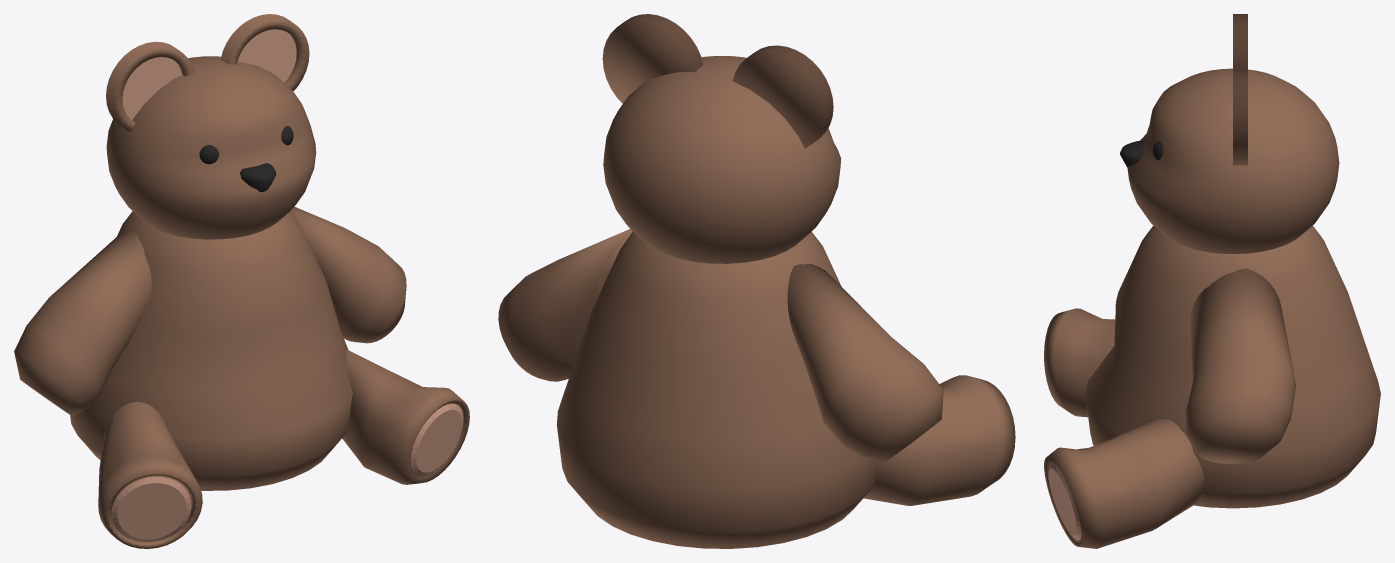
File: bear2.fbx
3 views of the same model, side by side, from view 1: azimuth 30°, elevation 25°; view 2: azimuth 150°, elevation 25°; view 3: azimuth 270°, elevation 25° (orthographic). The views are drawn at different scales.
Parts seen in each view (by area): view 1: charlieyellow.001; view 2: charlieyellow.001; view 3: charlieyellow.001.
Boxes of the visible parts, x1,y1,x2,y2 form: charlieyellow.001: (14, 14, 469, 548); charlieyellow.001: (498, 14, 1015, 548); charlieyellow.001: (1044, 14, 1380, 548).
Bounding box in the file's own units: 296 × 323 × 228.
